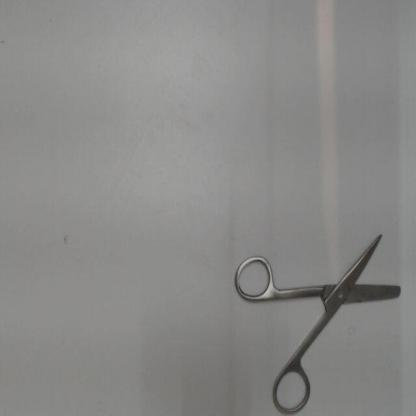Dressing Scissors: (225, 222, 406, 416)
